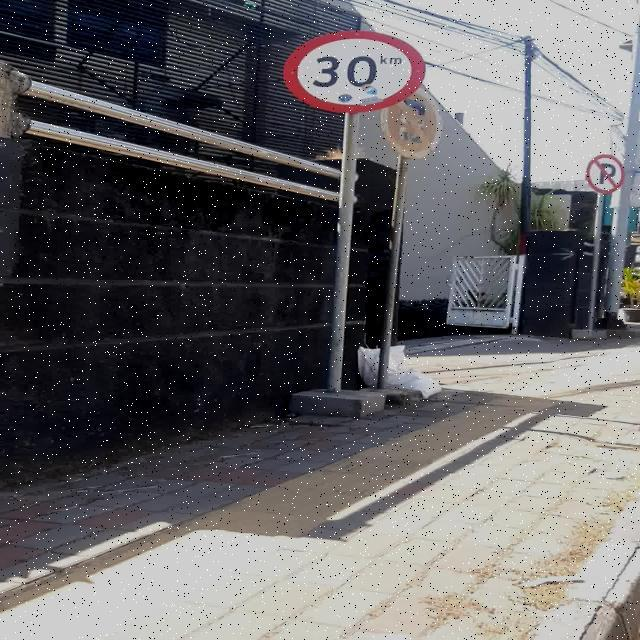Kecepatan Maks. 30 km: (282, 30, 427, 113)
